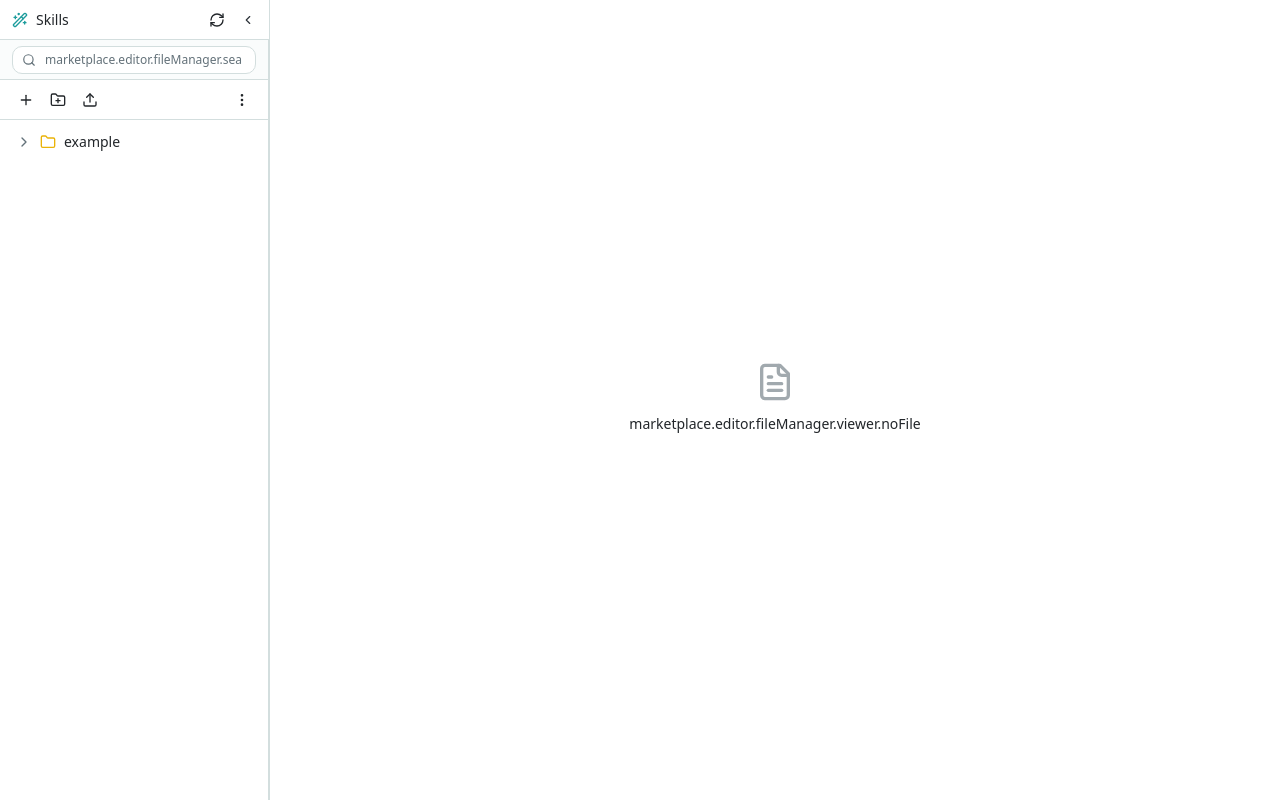
MarketplaceFileResourcePage › does not try to load content for an empty directory entry
The image size is (1280, 800).
Click the text "example": (92,142) [64,132,120,151]
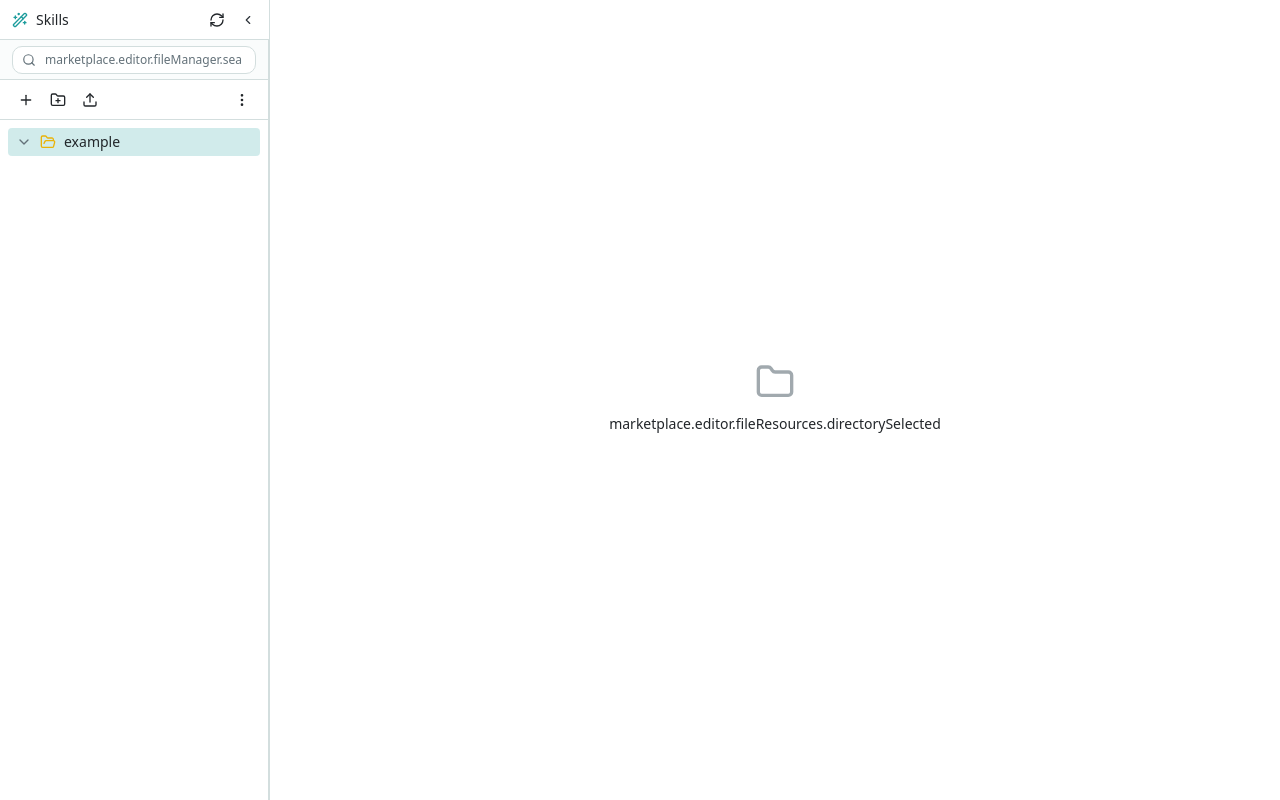
Check: the text "marketplace.editor.fileResources.directorySelected" is shown, box [609,414,941,434]
